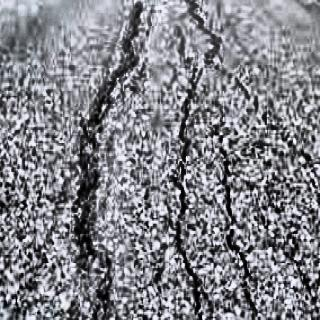crack: (181, 2, 267, 320), (76, 0, 151, 320)
